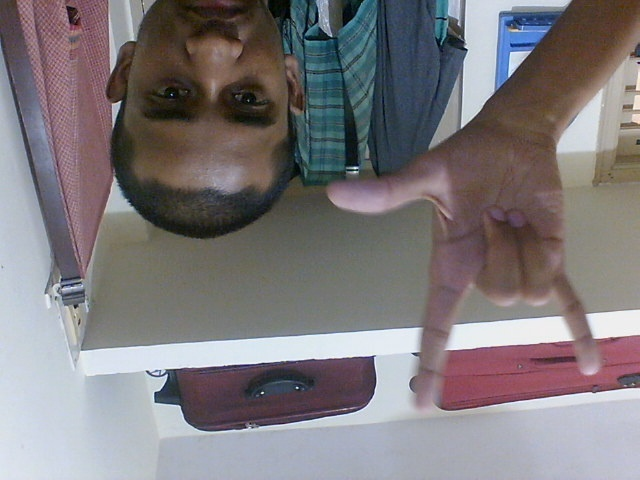hand: (324, 113, 604, 421)
